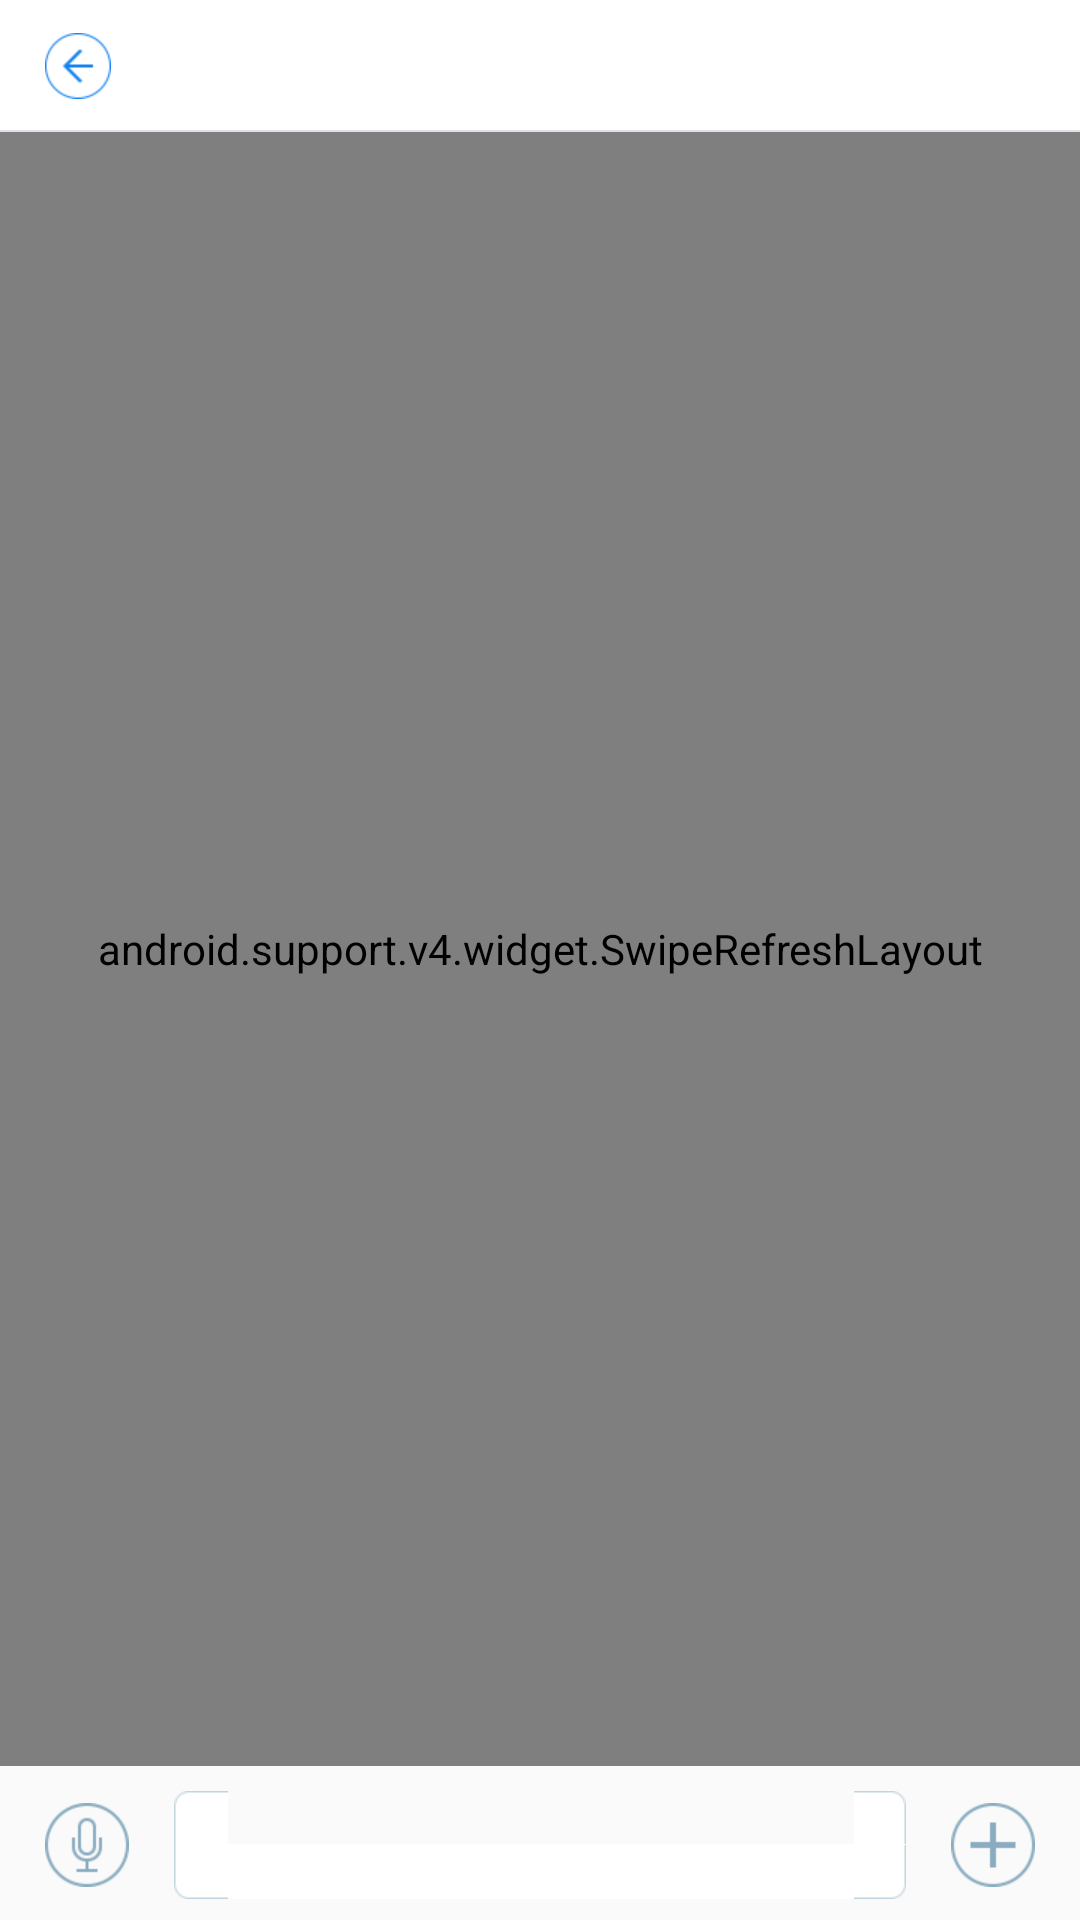

Icon click points for this 1080 × 1920 phone screenshot, format point (x, y):
chat more: point (993, 1845)
chat voice: point (87, 1845)
